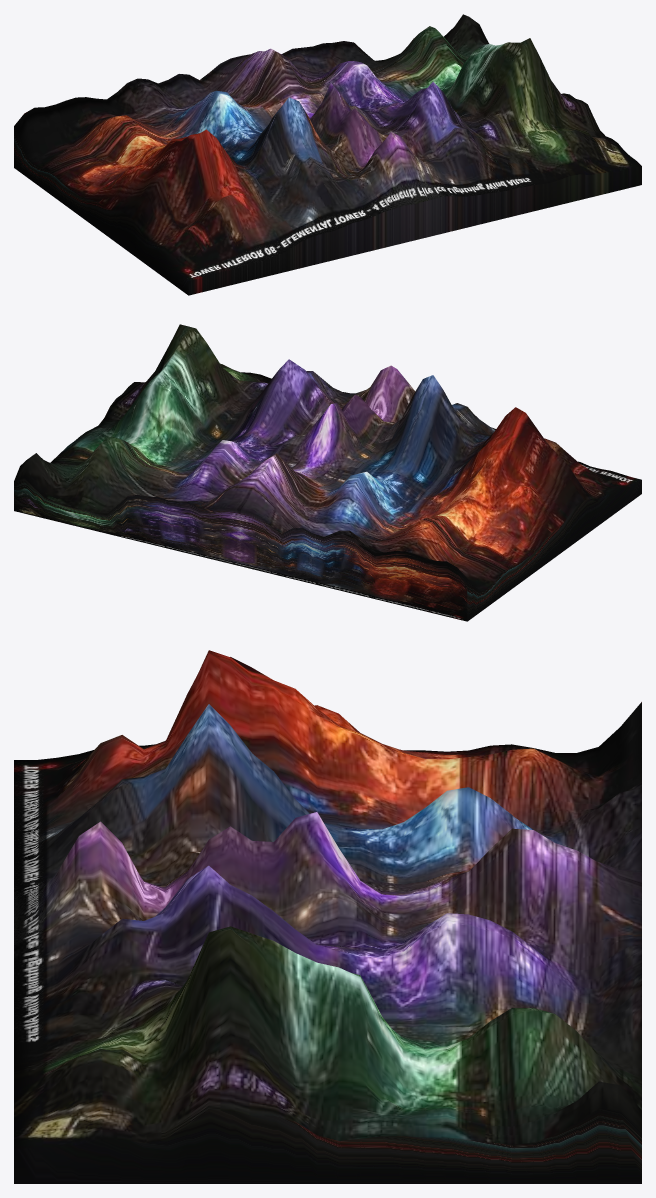
File: TOWER_INT_08_Elemental_Tower.glb
3 renders of one model, top to bottom at view 1: azimuth 30°, elevation 25°; view 2: azimuth 150°, elevation 25°; view 3: azimuth 270°, elevation 25°, orthographic. The views are drawn at different scales.
Visible parts, largest first — view 1: TOWER_INT_08_Elemental_Tower; view 2: TOWER_INT_08_Elemental_Tower; view 3: TOWER_INT_08_Elemental_Tower.
Part boxes in pixels (left/top/right/bottom): TOWER_INT_08_Elemental_Tower: left=14, top=14, right=641, bottom=295; TOWER_INT_08_Elemental_Tower: left=14, top=324, right=641, bottom=621; TOWER_INT_08_Elemental_Tower: left=14, top=650, right=641, bottom=1183.
Bounding box in the file's own units: 2 × 0.51 × 1.33.
Materials: 1 (1 with a texture image).
